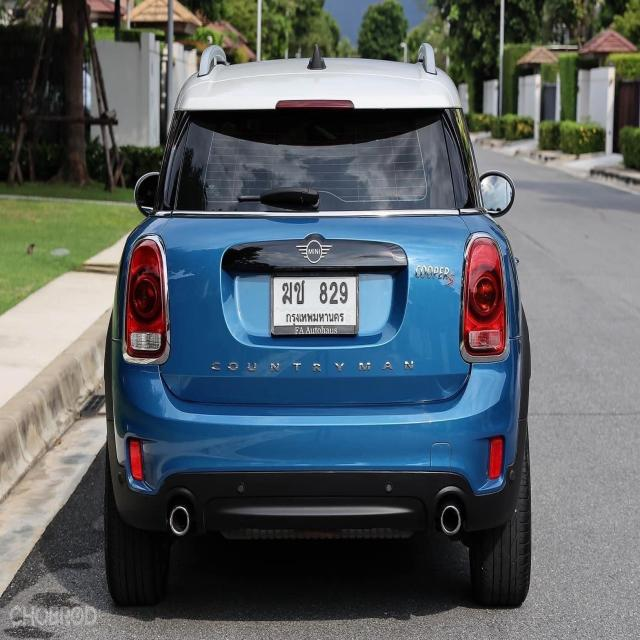license_plate: (269, 271, 361, 335)
